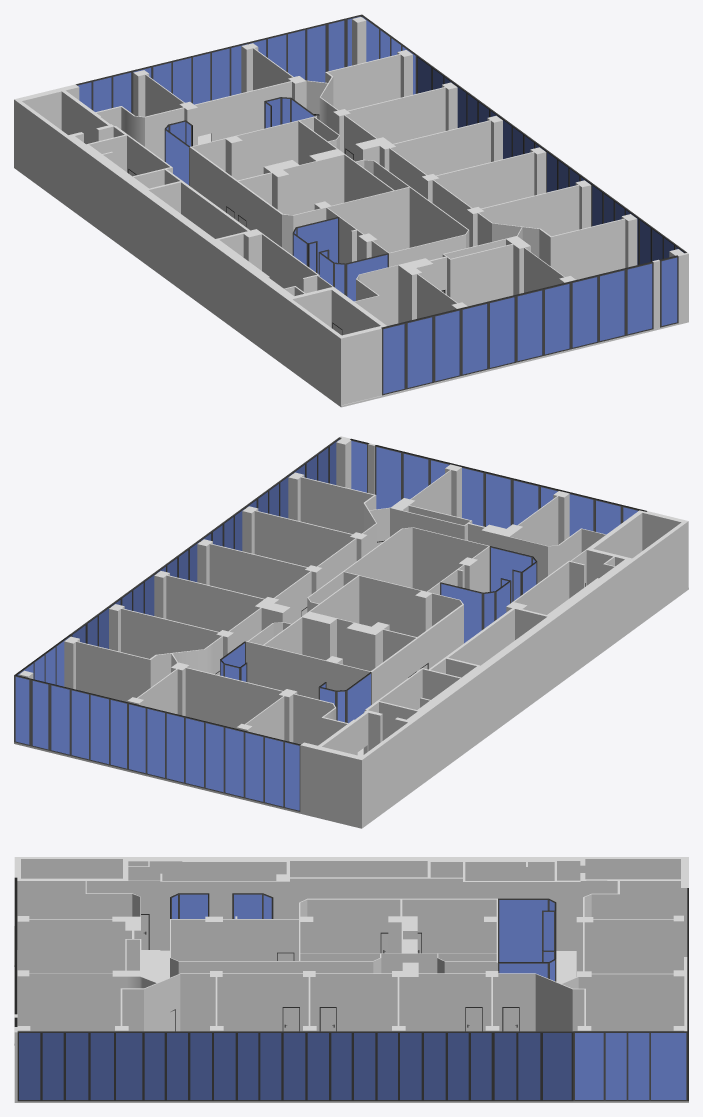
File: 570_Dunsmuir_etaj2.glb
The picture shows the model from 3 angles, top to bottom: view 1: azimuth 30°, elevation 25°; view 2: azimuth 150°, elevation 25°; view 3: azimuth 270°, elevation 25°; orthographic projection. The views are drawn at different scales.
Parts seen in each view (by area): view 1: Stairs003; view 2: Stairs003; view 3: Stairs003.
Part boxes in pixels (x1=…): Stairs003: x1=14, y1=14, x2=688, y2=407; Stairs003: x1=14, y1=436, x2=688, y2=828; Stairs003: x1=14, y1=857, x2=688, y2=1102.
Size of the model in its own units: 21.24 by 4 by 34.59.
